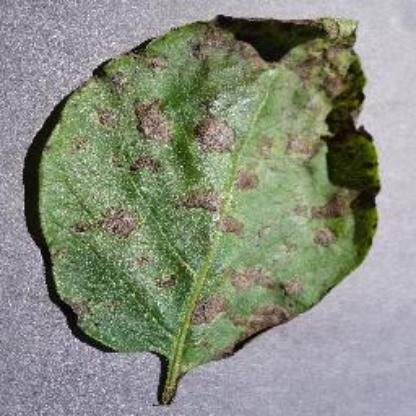Early-Blight: (28, 13, 392, 406)
